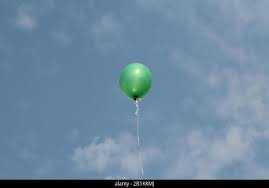Balloon: (119, 63, 154, 98)
